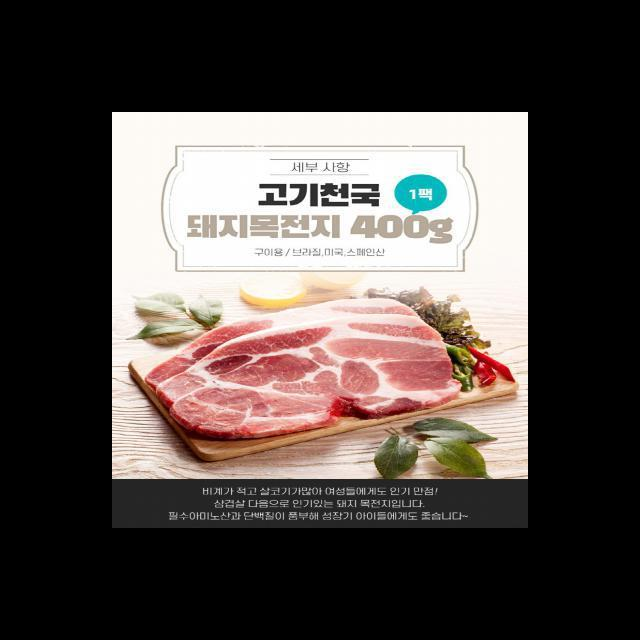pork: (143, 306, 482, 437)
